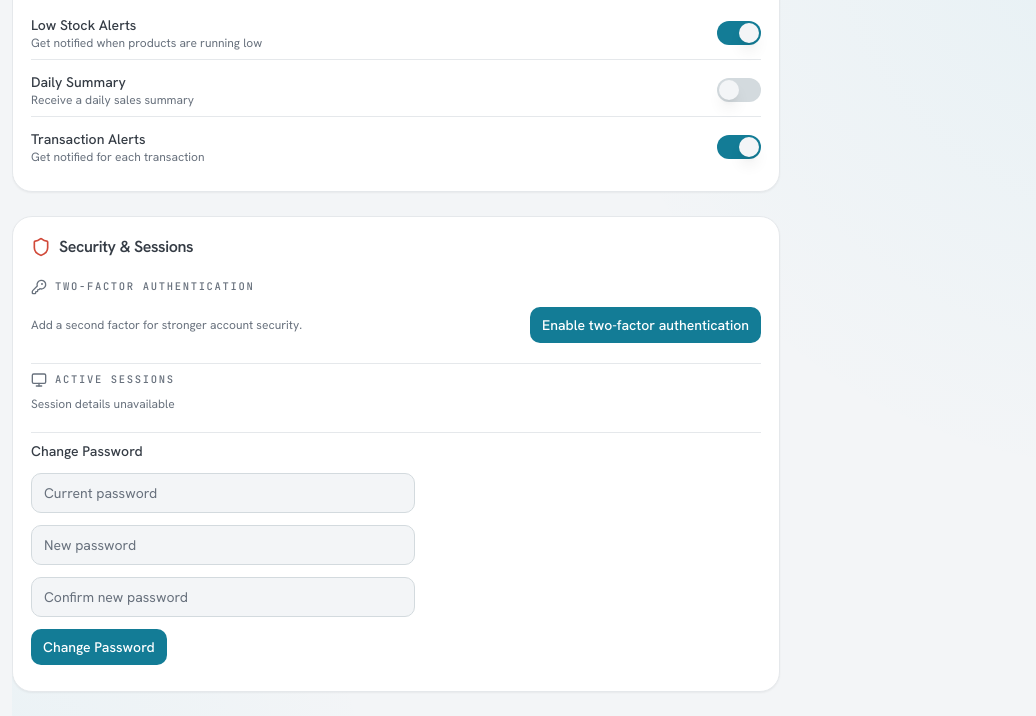
Scenario: UserProfile change-password control › rejects a mismatched confirmation without calling the API
(page scrolled)
Type "OldPass123" into the password field with placeholder "Current password" at (223, 492), box [31,472,415,512]
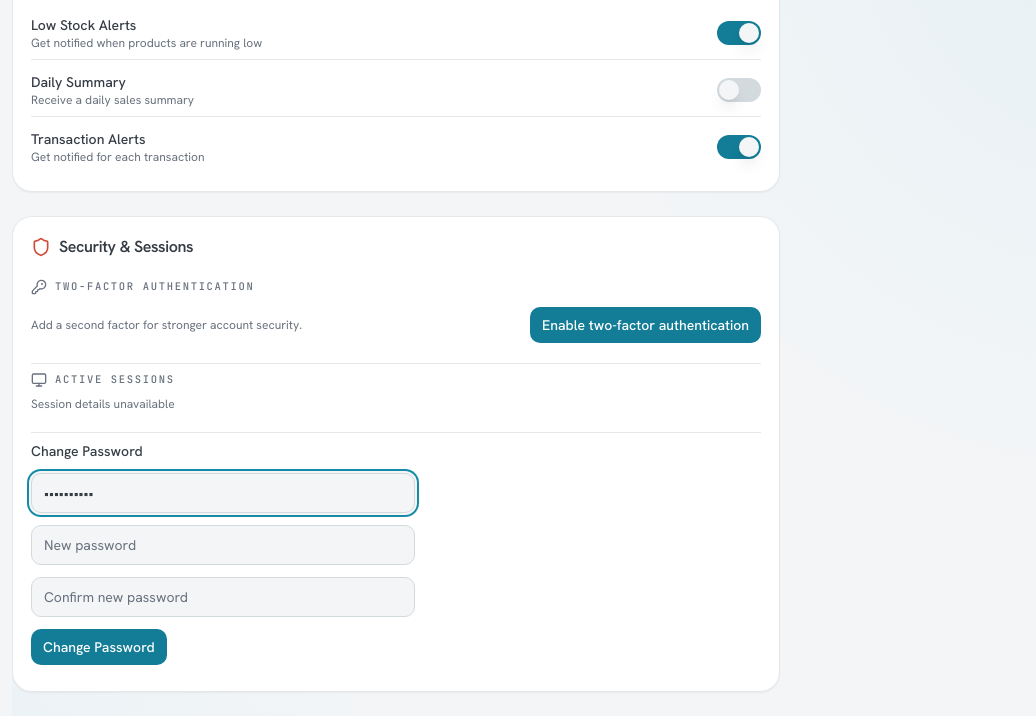
Type "NewPass123" into the password field with placeholder "New password" at (223, 544), box [31,524,415,564]
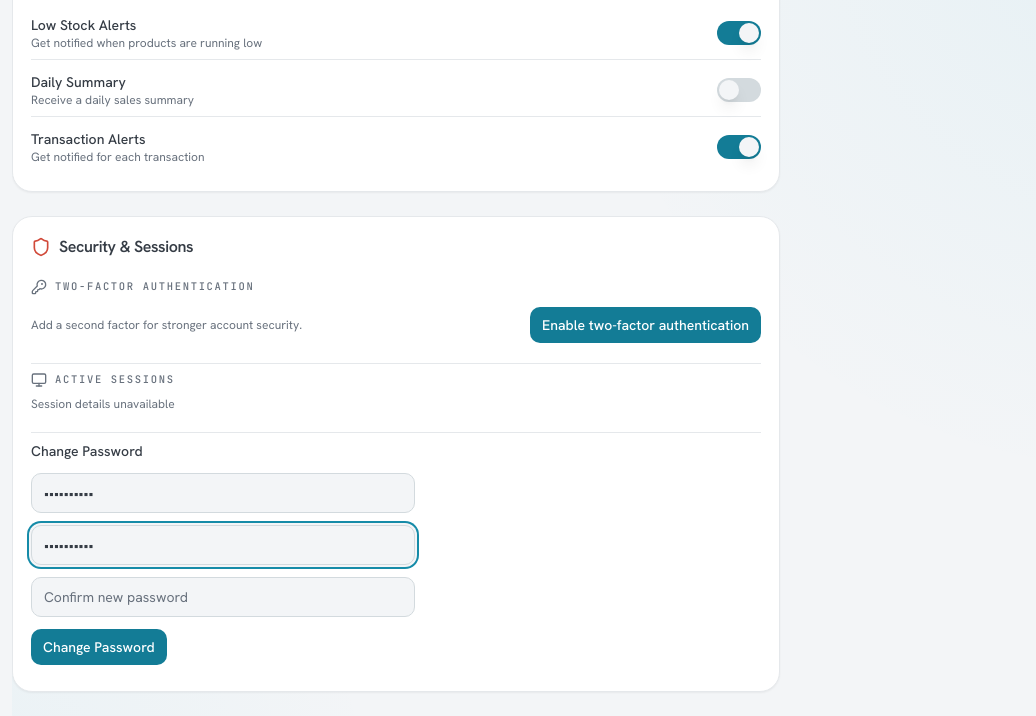
Type "Different123" into the password field with placeholder "Confirm new password" at (223, 596), box [31,576,415,616]
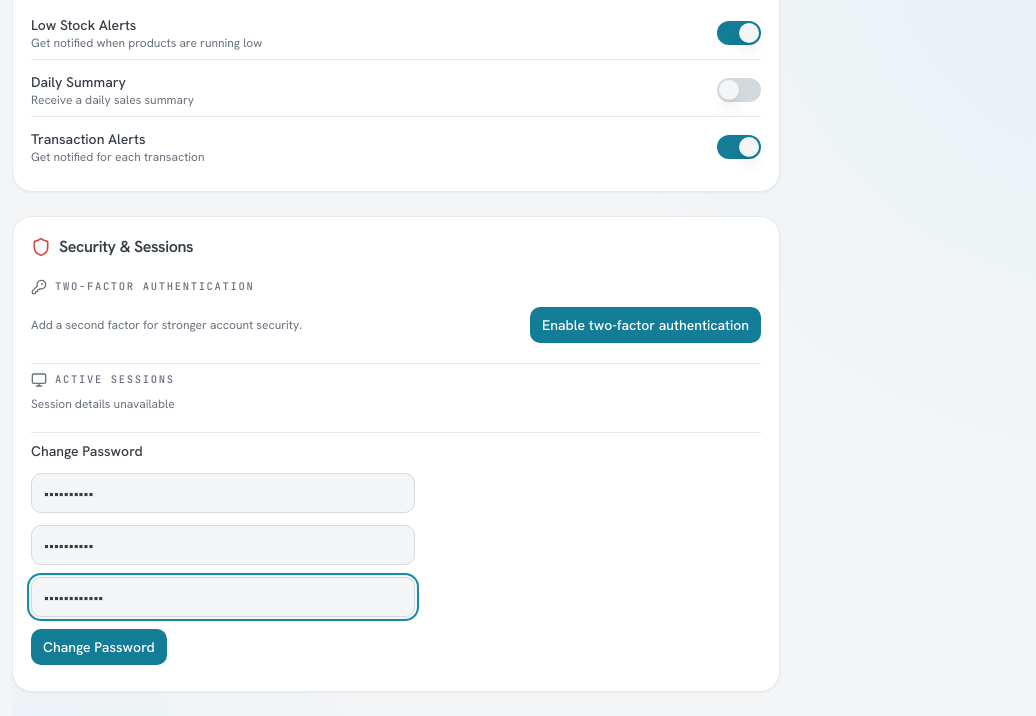
Click the button "Change Password" at (99, 646), box [31,628,167,664]
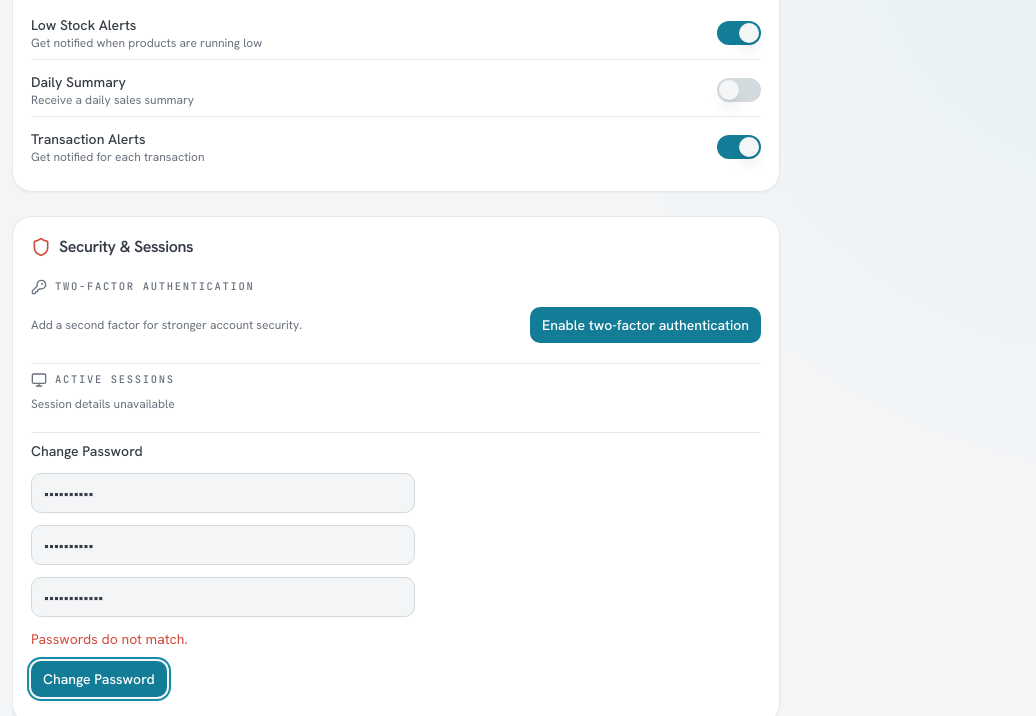
Now the text "Passwords do not match." is shown, box [31,630,188,648]
